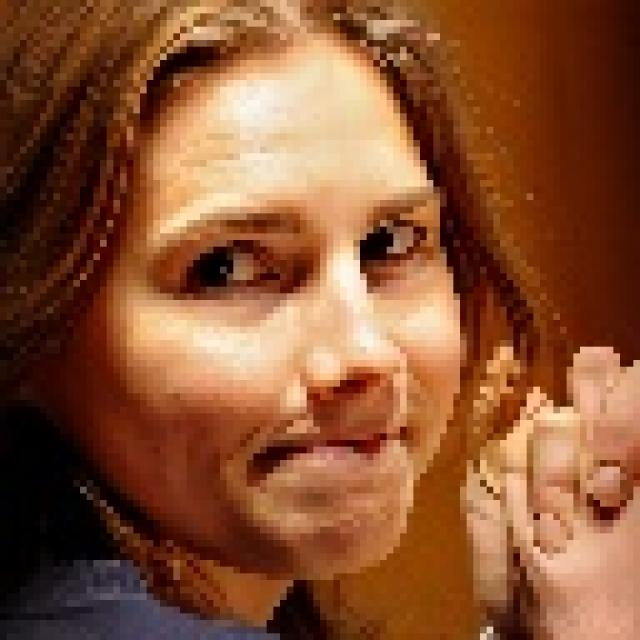angry: (57, 53, 483, 594)
